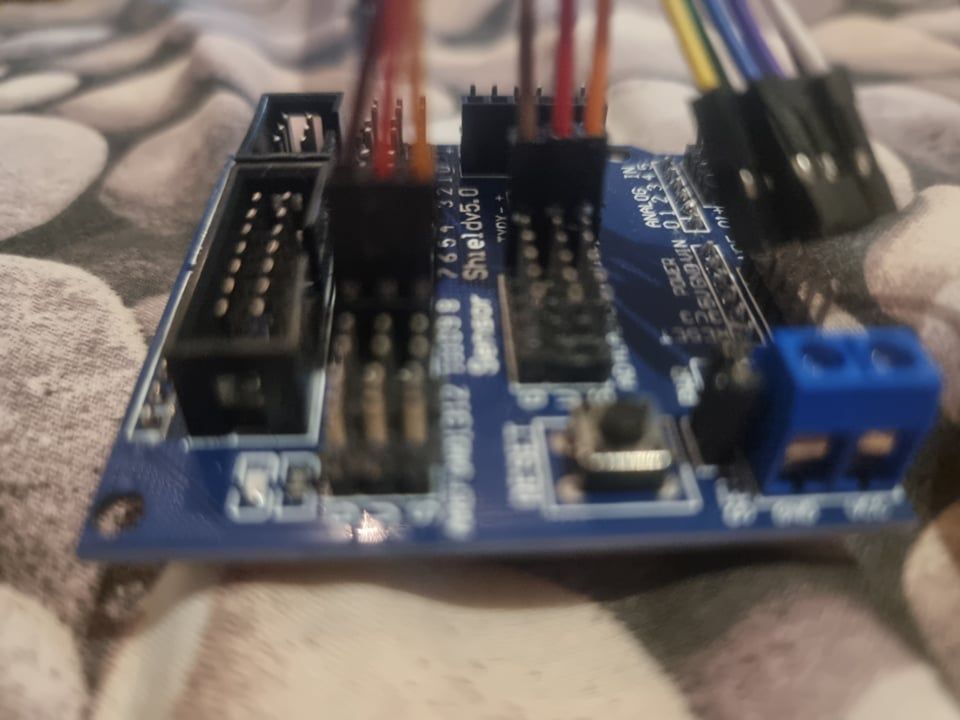5V EXPANSION: (76, 38, 948, 553)
